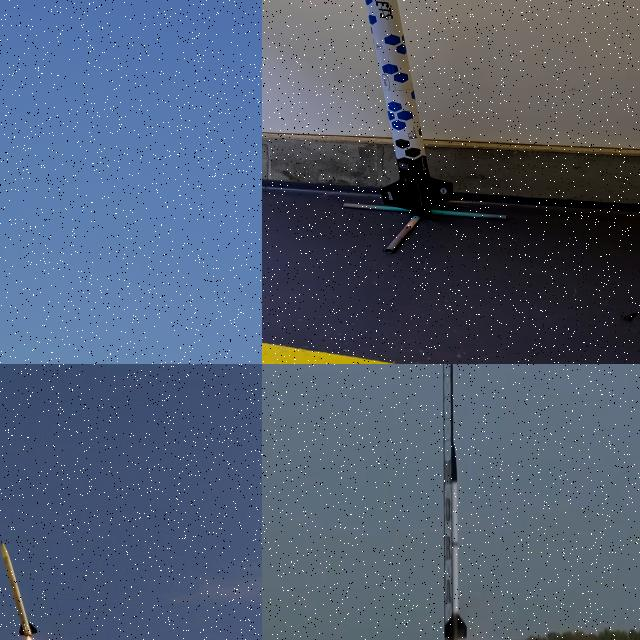Rocket: (365, 0, 453, 216), (443, 442, 467, 640), (0, 539, 38, 637)
